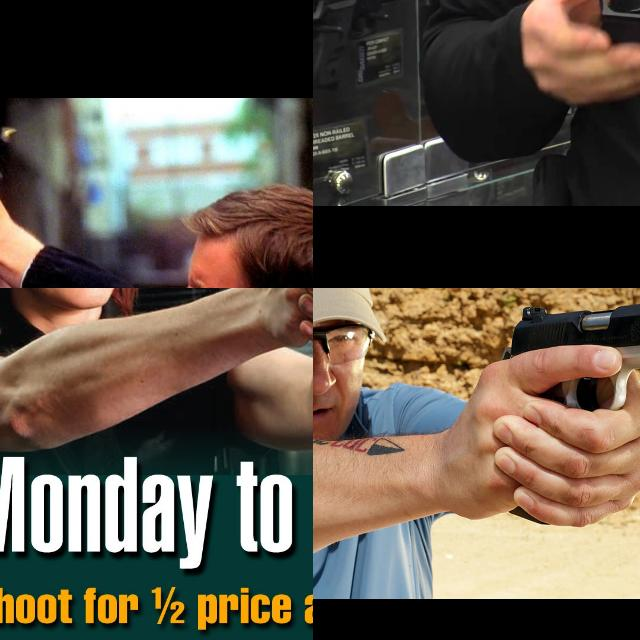handgun: (499, 288, 640, 415), (313, 0, 416, 97), (490, 0, 640, 62), (0, 107, 71, 189)
